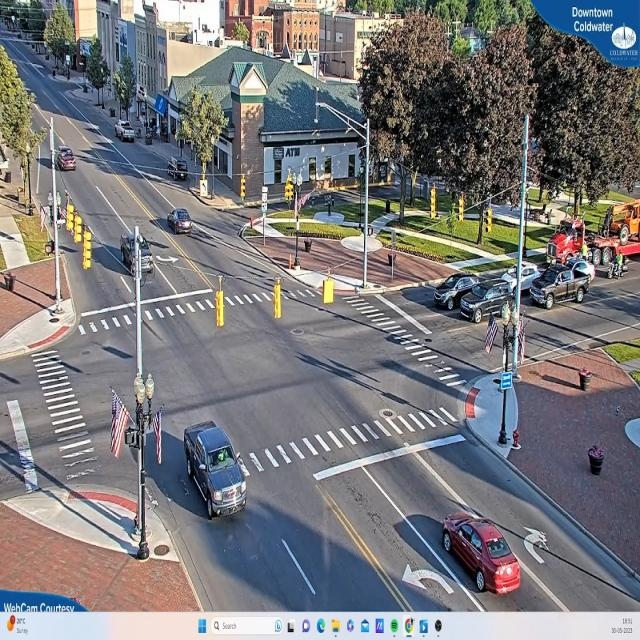car: (441, 512, 524, 596), (183, 421, 251, 519), (530, 256, 596, 310), (432, 274, 487, 308), (120, 233, 155, 278), (166, 209, 192, 236), (117, 122, 137, 144), (59, 147, 74, 170)
